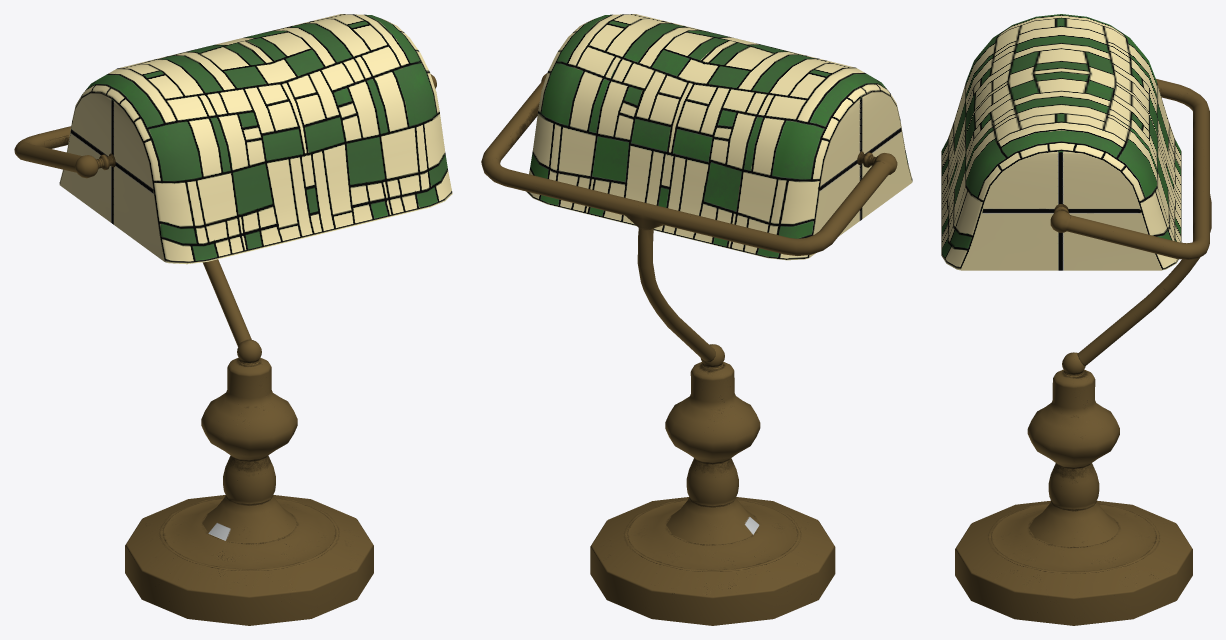
Rendered from tablemap.fbx.
3 renders of one model, left to right at view 1: azimuth 30°, elevation 25°; view 2: azimuth 150°, elevation 25°; view 3: azimuth 270°, elevation 25°, orthographic. The views are drawn at different scales.
Visible parts, largest first — view 1: tablelamp; view 2: tablelamp; view 3: tablelamp.
Boxes of the visible parts, x1=… form: tablelamp: x1=14, y1=14, x2=452, y2=625; tablelamp: x1=481, y1=14, x2=912, y2=625; tablelamp: x1=941, y1=14, x2=1211, y2=625.
Bounding box in the file's own units: 19.85 × 27.88 × 13.5.
